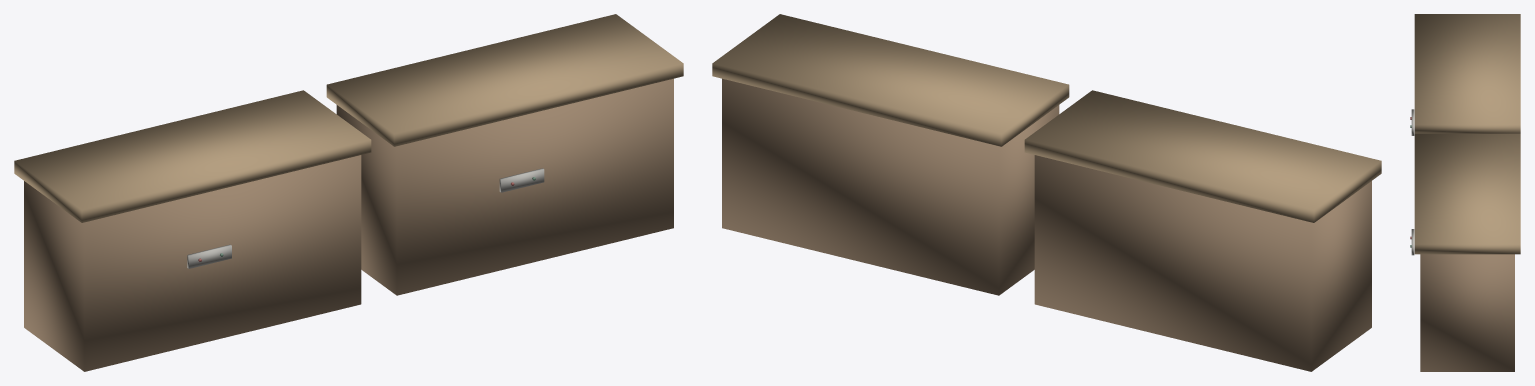
File: host_stand__cluster.glb
3 renders of one model, left to right at view 1: azimuth 30°, elevation 25°; view 2: azimuth 150°, elevation 25°; view 3: azimuth 270°, elevation 25°, orthographic. The views are drawn at different scales.
Parts seen in each view (by area): view 1: world; view 2: world; view 3: world.
Boxes of the visible parts, bbox=[...] form: world: bbox=[14, 14, 683, 371]; world: bbox=[712, 14, 1381, 371]; world: bbox=[1410, 14, 1520, 371].
Size of the model in its own units: 3.91 by 1.03 by 0.791.
